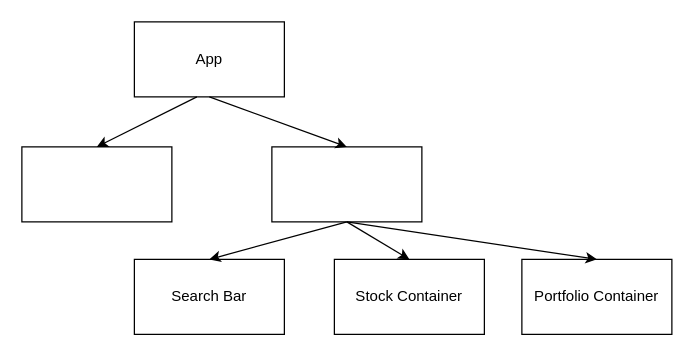
Some shapes in this 694 by 356 pixel diagram are drawn without their labels. The centre of each missing label's shape, as x and y in pixels:
"Header" goes at pixel 96 184.
"Main Container" goes at pixel 346 184.
